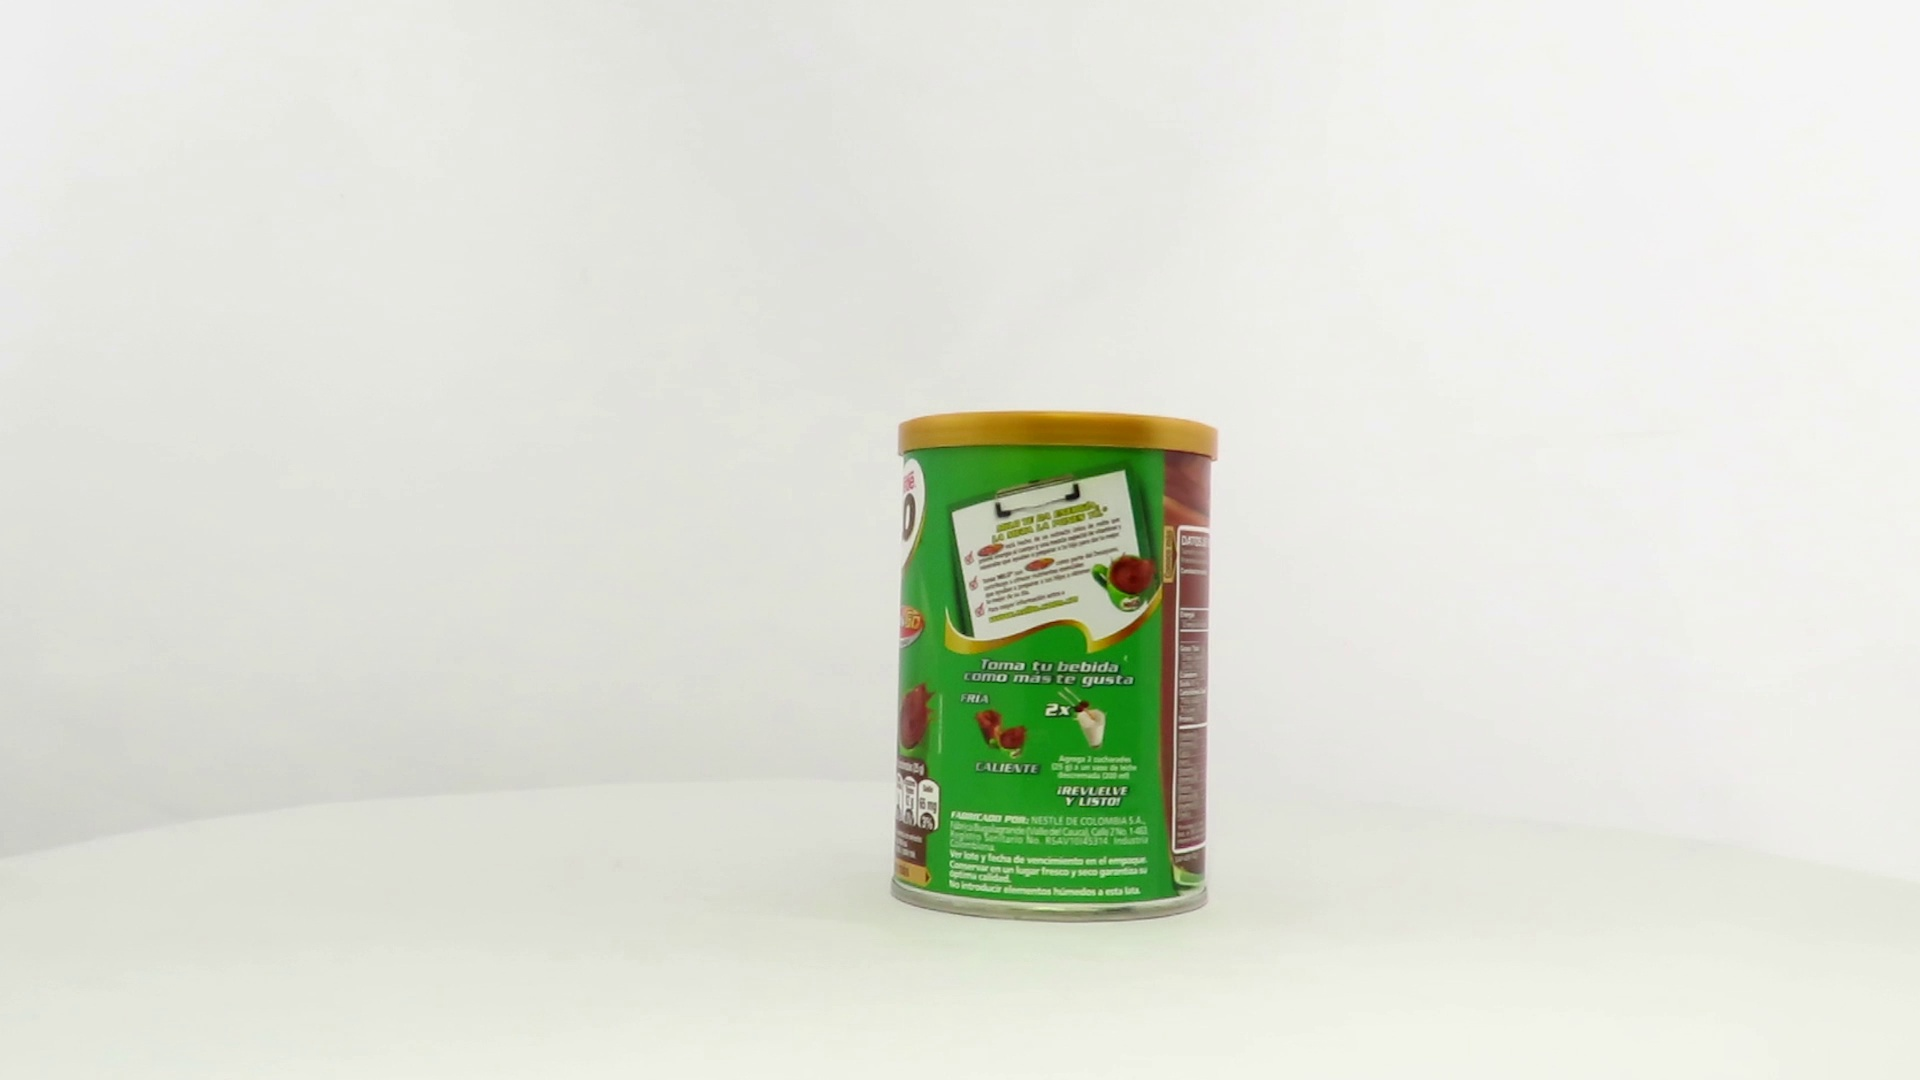COL0170203LAT20000: (885, 405, 1224, 928)
